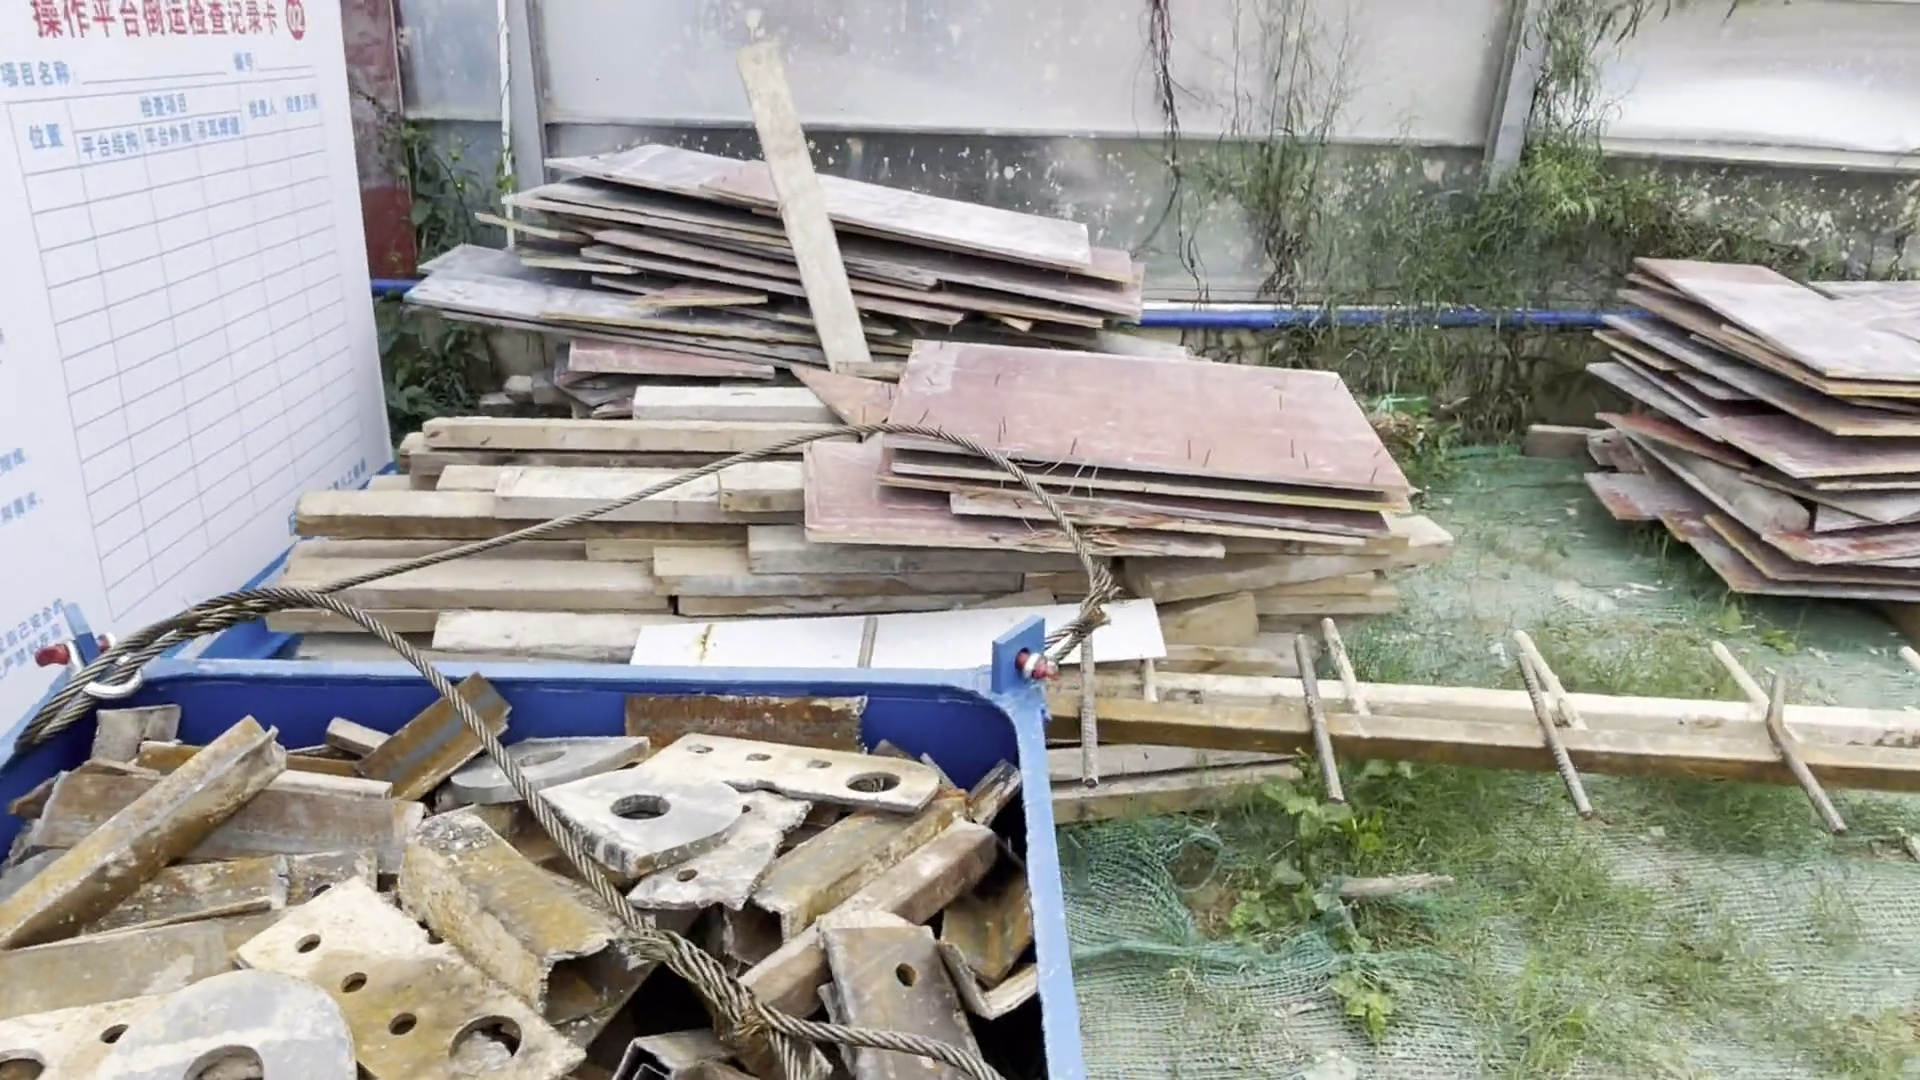board: (411, 142, 1189, 405), (806, 330, 1428, 567), (1578, 232, 1920, 613)
hopper: (1, 640, 1125, 1080)
wood: (336, 392, 1462, 705)
